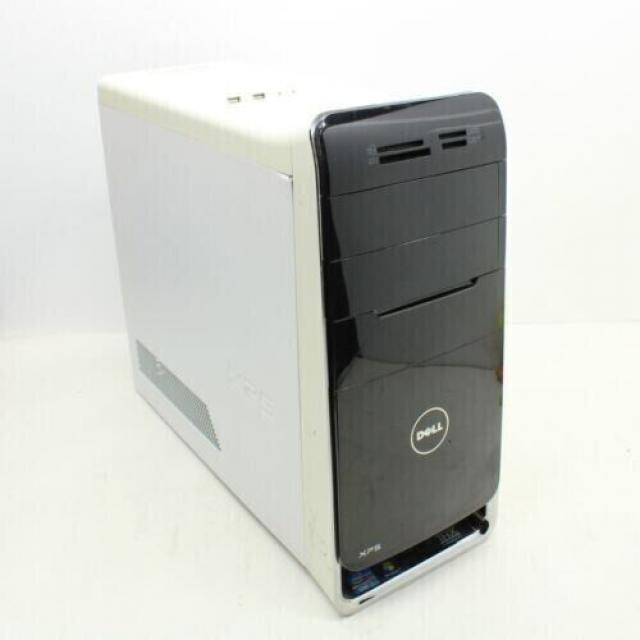Desktop-PC: (93, 42, 562, 618)
